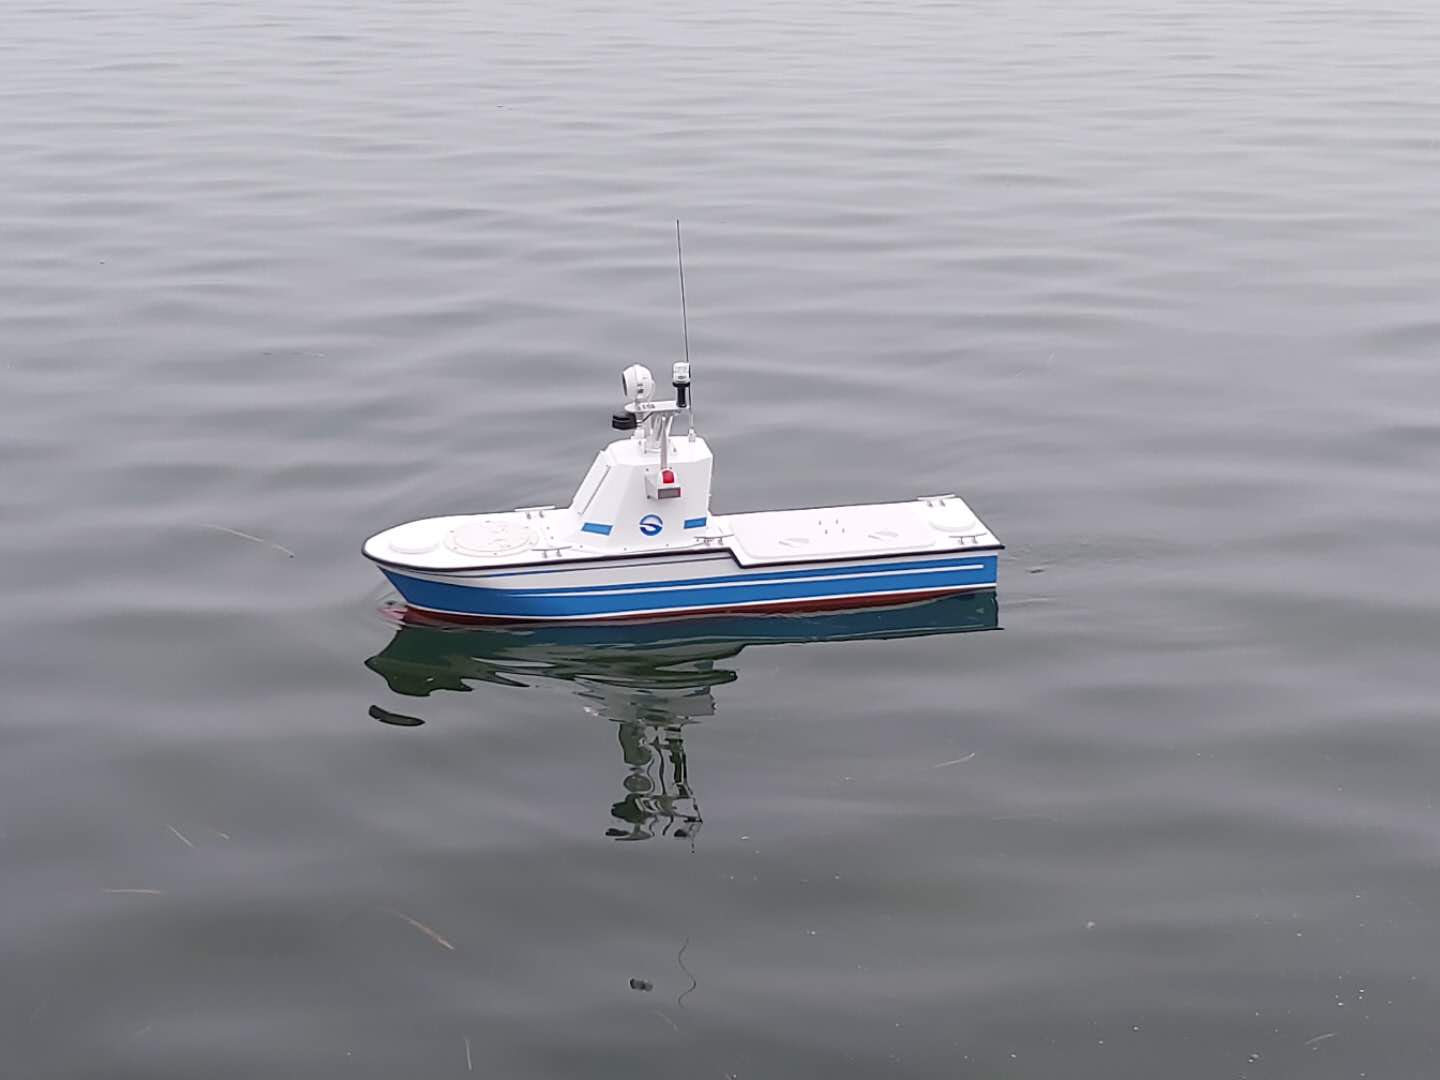boat: (347, 366, 1008, 648)
